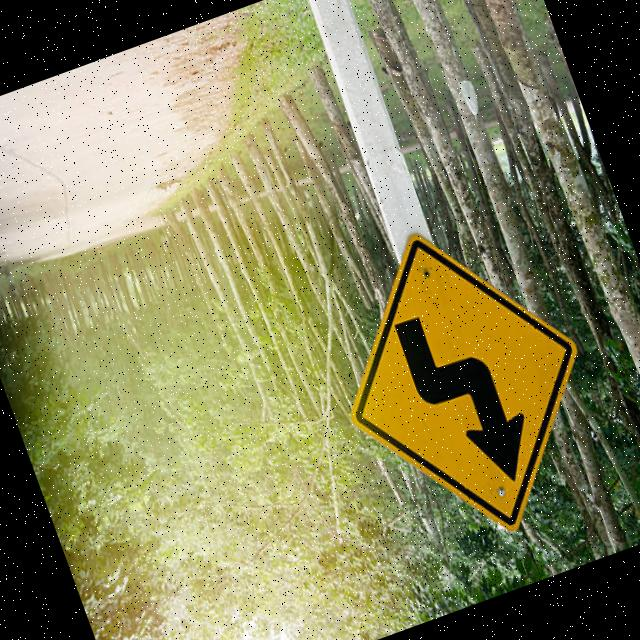left_sharp_curve: (307, 207, 630, 574)
